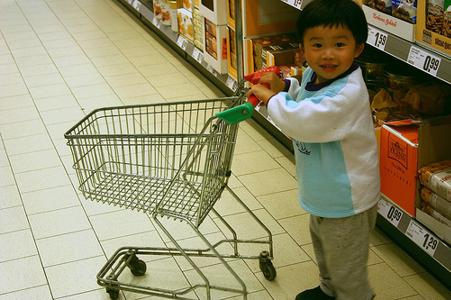person: (247, 2, 381, 300)
